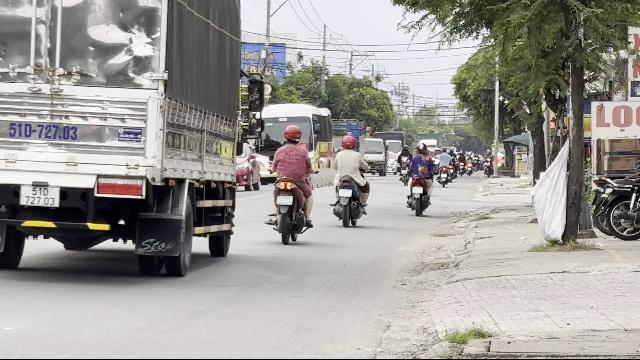helmet: (282, 124, 302, 144)
licenseplate: (277, 195, 293, 205)
motorcyclist: (264, 124, 316, 242)
